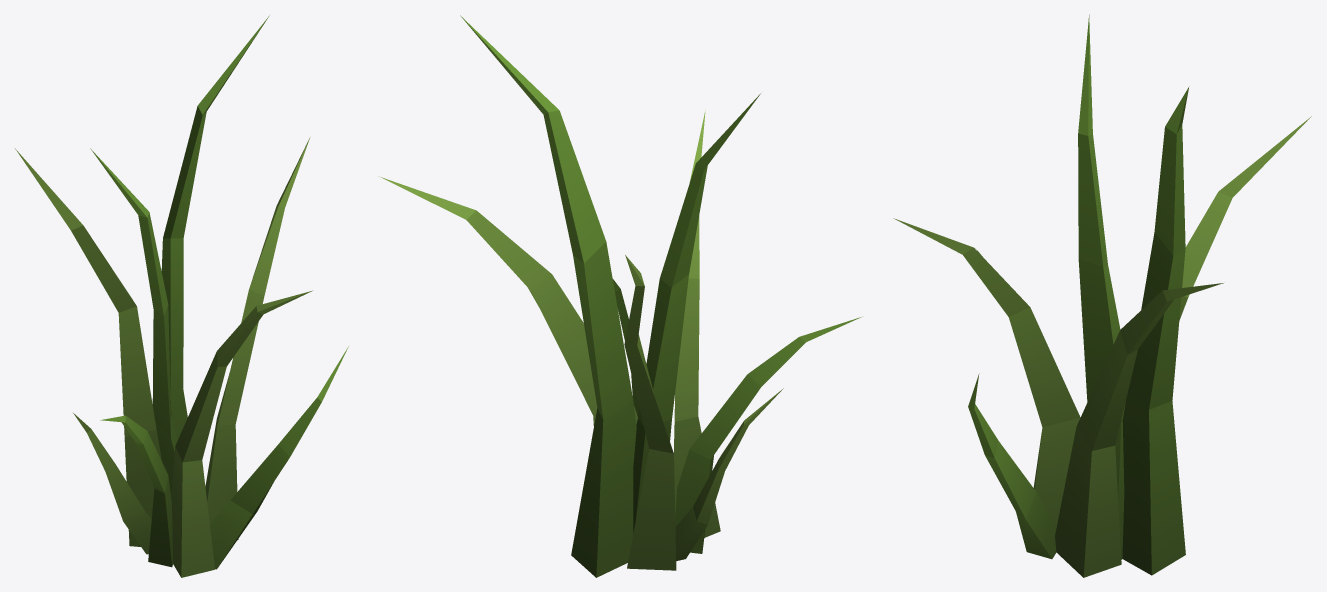
Rendered from Cavern_Grass-03.fbx.
3 renders of one model, left to right at view 1: azimuth 30°, elevation 25°; view 2: azimuth 150°, elevation 25°; view 3: azimuth 270°, elevation 25°, orthographic. The views are drawn at different scales.
Parts seen in each view (by area): view 1: Cavern_Grass-03; view 2: Cavern_Grass-03; view 3: Cavern_Grass-03.
Boxes of the visible parts, x1,y1,x2,y2 form: Cavern_Grass-03: [15, 15, 348, 577]; Cavern_Grass-03: [378, 15, 862, 577]; Cavern_Grass-03: [893, 14, 1311, 577].
Bounding box in the file's own units: 70.87 × 99.53 × 70.9.
Materials: 1 (1 with a texture image).
